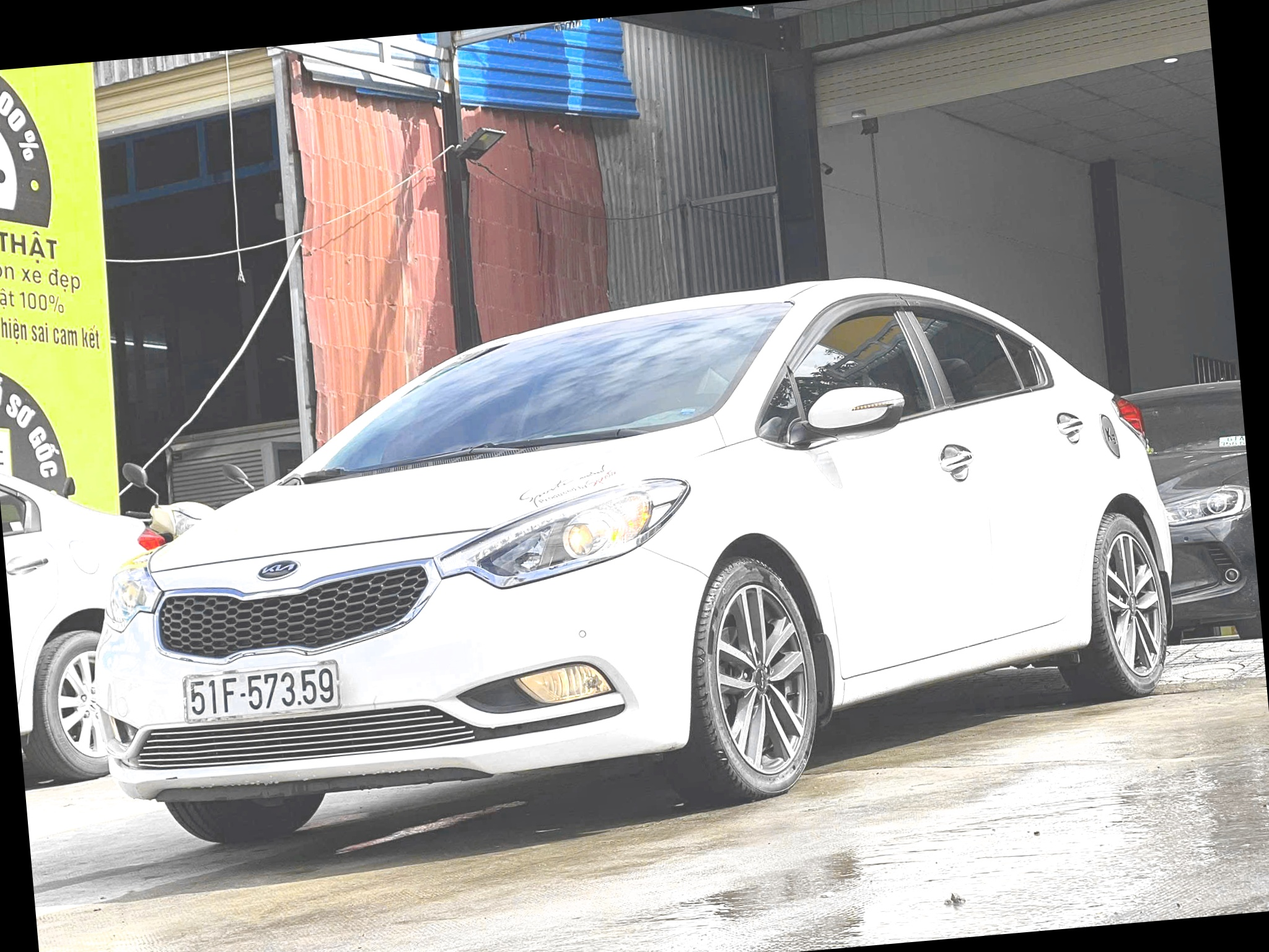Bien-so: (182, 660, 345, 725)
